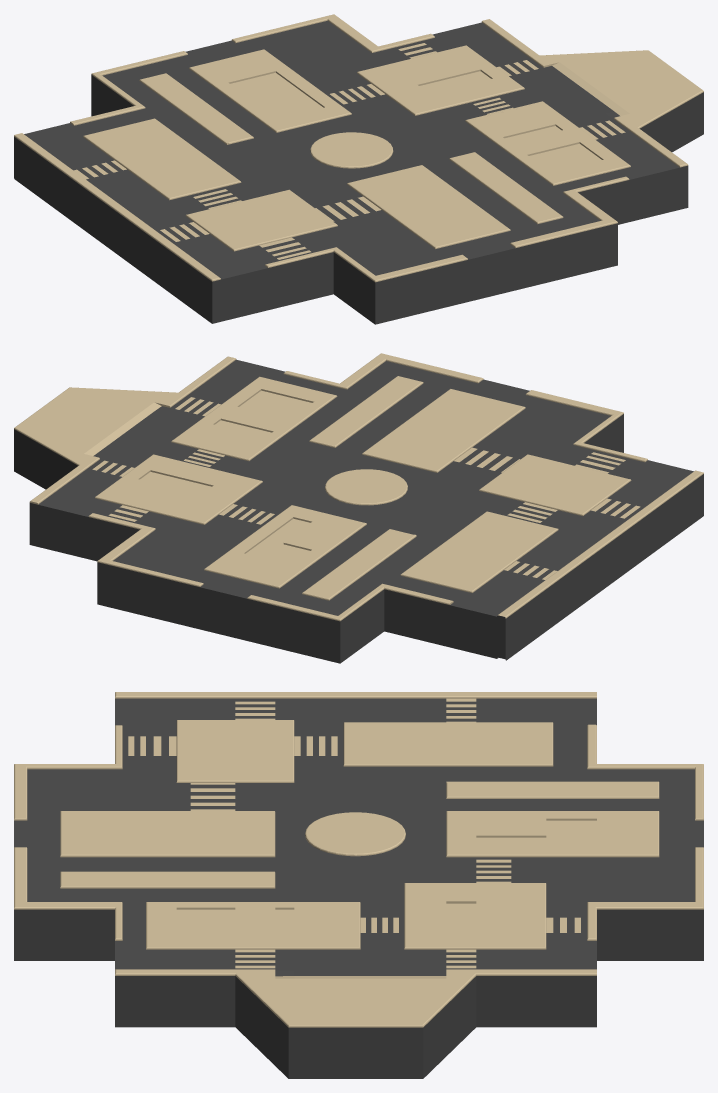
The model's file is chaogeralcentrocidade.fbx.
3 renders of one model, top to bottom at view 1: azimuth 30°, elevation 25°; view 2: azimuth 150°, elevation 25°; view 3: azimuth 270°, elevation 25°, orthographic. The views are drawn at different scales.
Parts seen in each view (by area): view 1: Cube.007; view 2: Cube.007; view 3: Cube.007.
Part boxes in pixels (bbox=[...]): Cube.007: bbox=[14, 14, 703, 324]; Cube.007: bbox=[14, 353, 703, 663]; Cube.007: bbox=[14, 692, 703, 1078].
Size of the model in its own units: 509 by 64.98 by 444.
